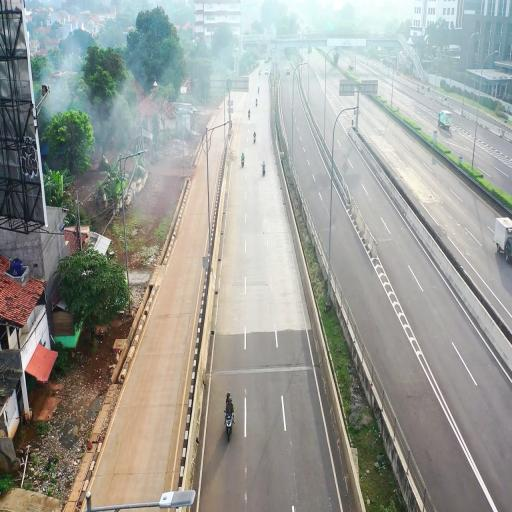vehicle: (494, 215, 512, 264)
